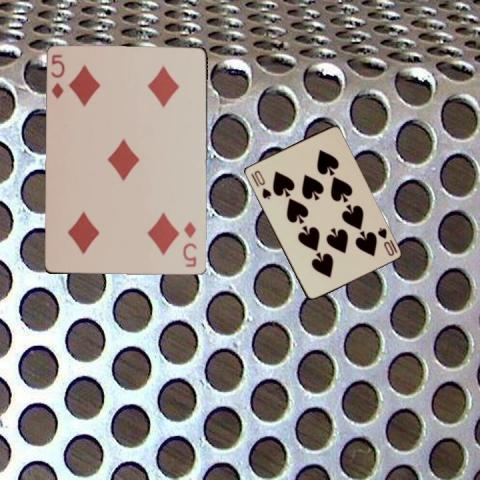10s: (250, 167, 272, 200), (374, 224, 395, 257)
5d: (180, 219, 198, 269), (48, 52, 66, 101)
